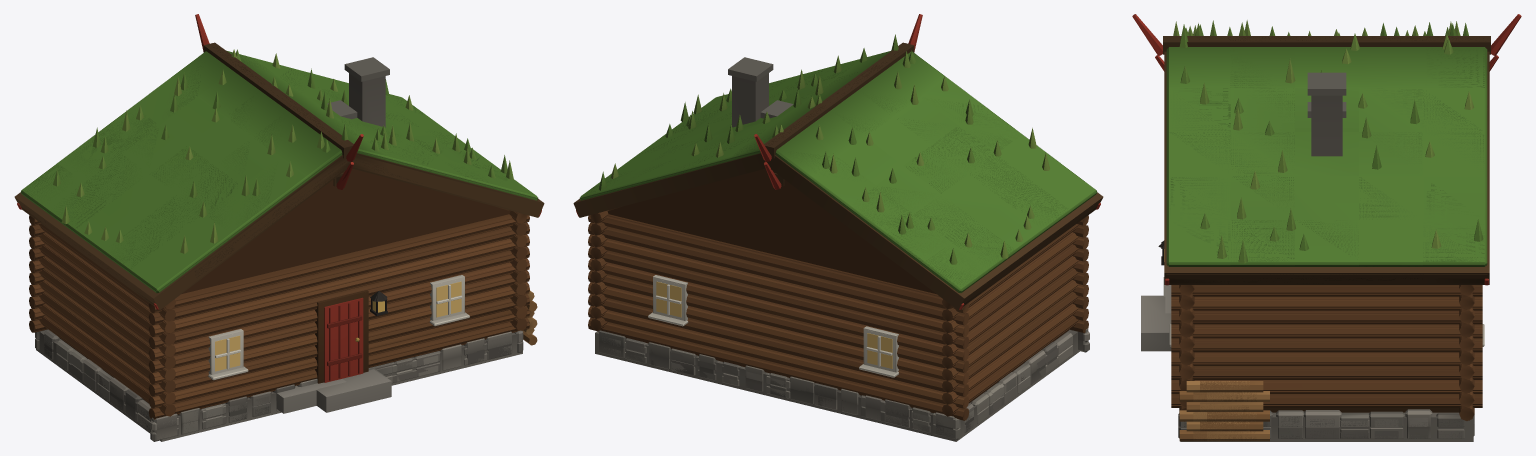
Rendered from houses-timber.glb.
3 views of the same model, side by side, from view 1: azimuth 30°, elevation 25°; view 2: azimuth 150°, elevation 25°; view 3: azimuth 270°, elevation 25° (orthographic). The views are drawn at different scales.
Parts seen in each view (by area): view 1: house_timber_l0, house_timber_l0__lod, house_timber_l1, house_timber_l0__glow, house_timber_s0__lod, house_timber_s0; view 2: house_timber_l0, house_timber_l0__lod, house_timber_l1, house_timber_l0__glow; view 3: house_timber_l0, house_timber_l0__lod, house_timber_l1.
Boxes of the visible parts, x1,y1,x2,y2 form: house_timber_l0: (16,14,542,441); house_timber_l0__lod: (14,42,544,441); house_timber_l1: (19,45,535,441); house_timber_l0__glow: (215,281,461,371); house_timber_s0__lod: (276,100,357,413); house_timber_s0: (278,101,355,397); house_timber_l0: (576,14,1101,439); house_timber_l0__lod: (573,42,1103,441); house_timber_l1: (586,51,1099,438); house_timber_l0__glow: (656,281,892,368); house_timber_l0: (1132,14,1521,441); house_timber_l0__lod: (1141,36,1490,441); house_timber_l1: (1166,20,1488,438).
Size of the model in its own units: 11.68 by 7.96 by 8.62.
